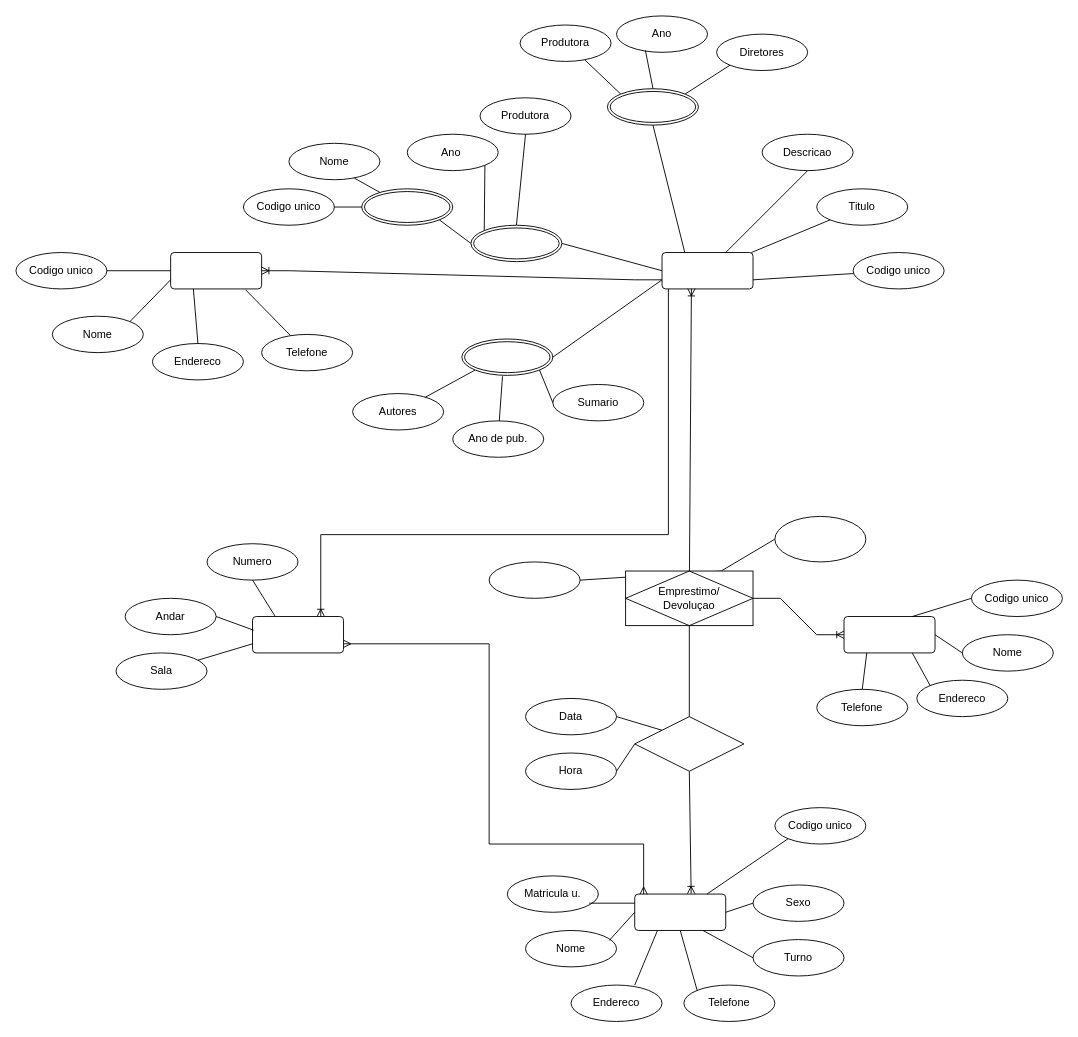
The diagram is 1078 pixels wide and 1037 high, and some of its shapes have lost their labels. The centre of each missing label's shape, as x and y in pixels:
"Associados" belongs at point (889, 634).
"Attribute" belongs at point (507, 356).
"CDs" belongs at point (516, 243).
"Data devolucao" belongs at point (534, 579).
"data emprestimo" belongs at point (820, 539).
"DVDs" belongs at point (652, 106).
"Estantes" belongs at point (298, 634).
"Fornecedores" belongs at point (216, 270).
"Funcionarios" belongs at point (680, 911).
"Itens" belongs at point (707, 270).
"Musicas" belongs at point (407, 206).
"verifica" belongs at point (689, 743).
